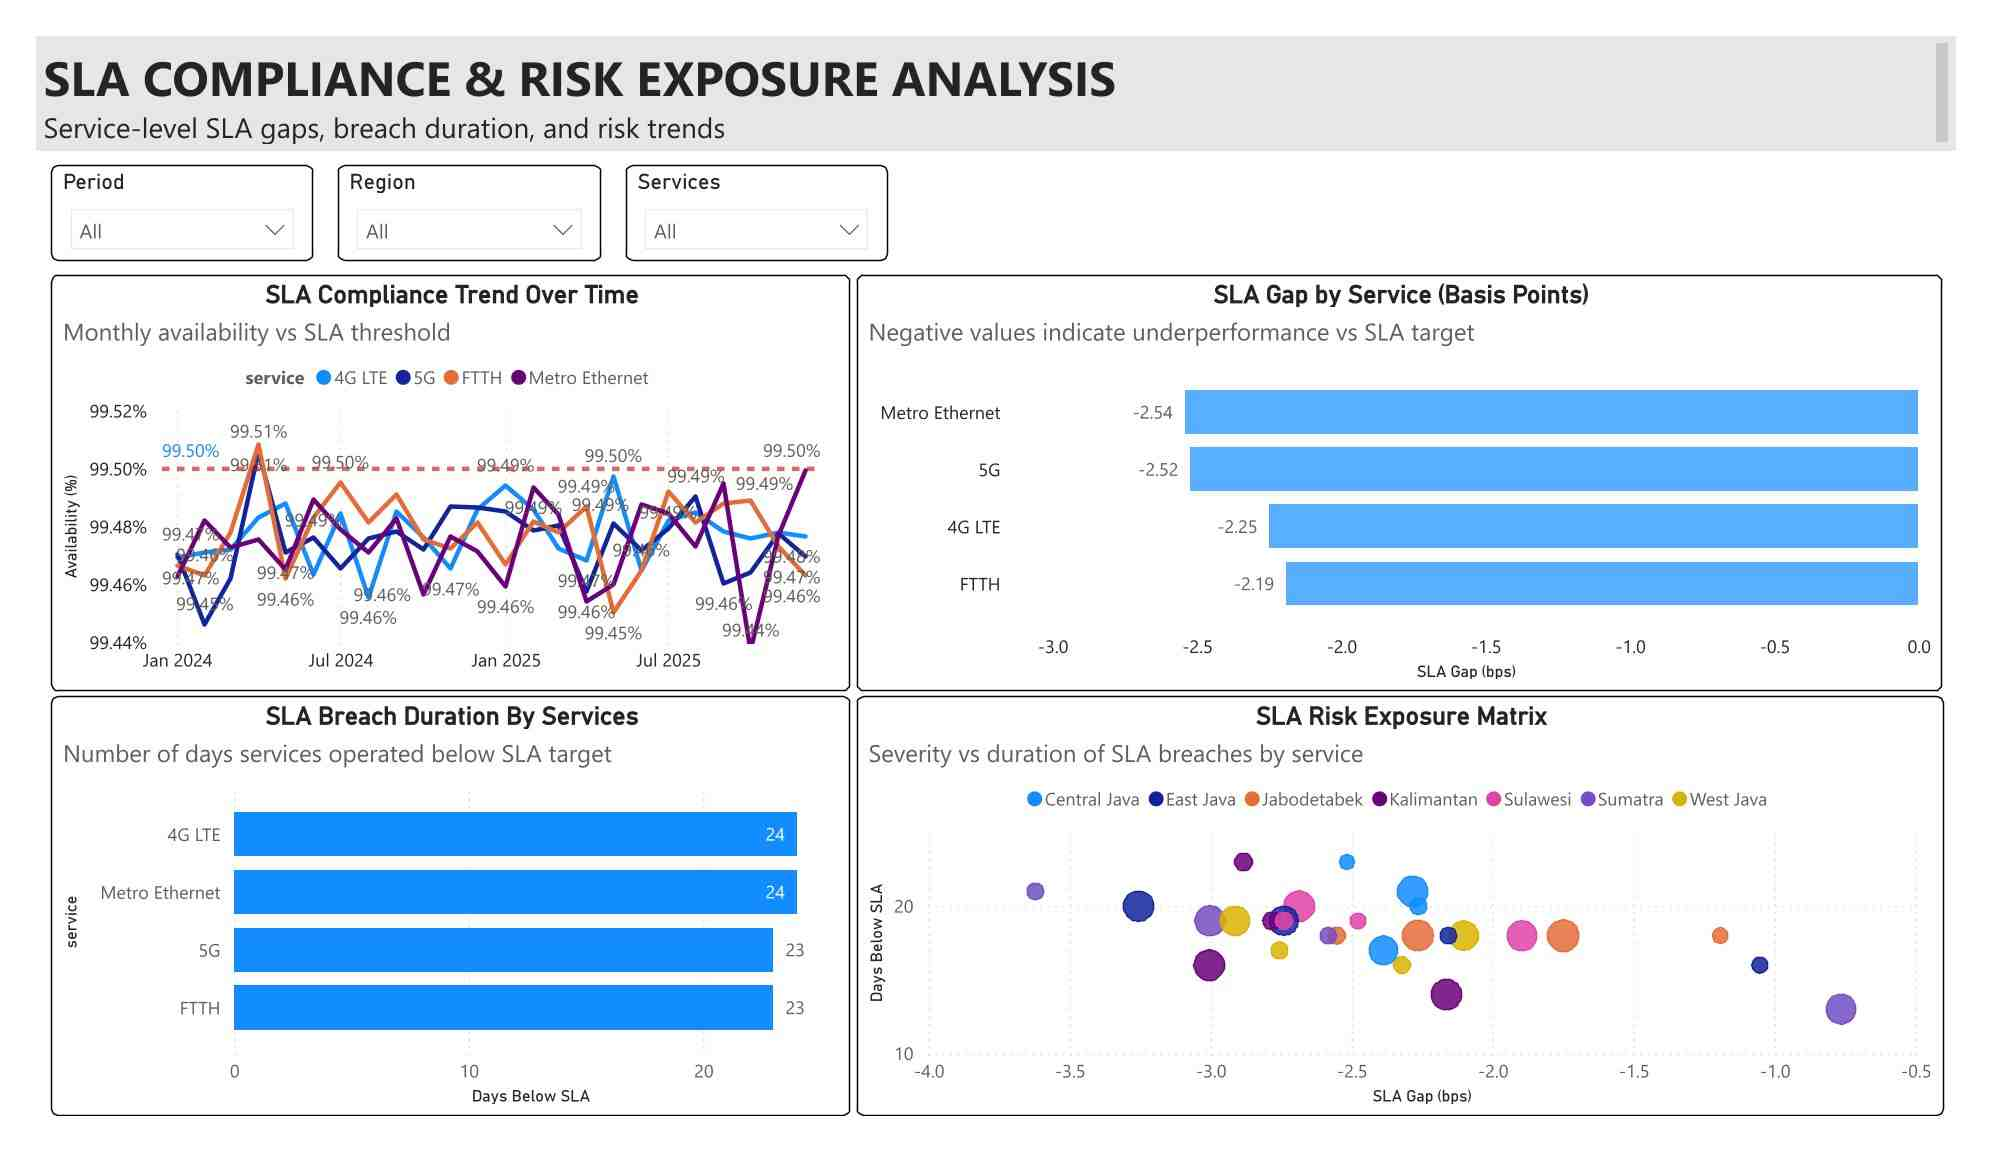

What the dashboard file says about the page in this screenshot:
{"tool":"powerbi","page":{"name":"SLA & RISK ANALYSIS","canvas":[1280,720],"ordinal":2},"visuals":[{"type":"textbox","box":[0,0,1280,77.1],"z":0},{"type":"lineChart","title":"SLA Compliance Trend Over Time","fields":{"Category":["dim_date.year_month"],"Y":["fact_network_kpi.Availability (%)"],"Series":["dim_service.service"]},"box":[10,158.6,532.9,278],"z":1000},{"type":"slicer","title":"Services","fields":{"Values":["dim_service.service"]},"box":[392.9,85.7,175,64.3],"z":2000},{"type":"clusteredBarChart","title":"SLA Breach Duration By Service","fields":{"Y":["fact_network_kpi.Days Below SLA"],"Category":["dim_service.service"]},"box":[10,440,533.3,280],"z":3000},{"type":"scatterChart","title":"SLA Risk Exposure Matrix","fields":{"Category":["dim_service.service"],"X":["fact_network_kpi.SLA Gap (bps)"],"Y":["fact_network_kpi.Days Below SLA"],"Size":["fact_incident.Incident Count"],"Series":["dim_region.region"]},"box":[546.8,440,725,280],"z":4000},{"type":"slicer","title":"Region","fields":{"Values":["dim_region.region"]},"box":[201.4,85.7,175.7,64.3],"z":5000},{"type":"slicer","title":"Period","fields":{"Values":["dim_date.year_month"]},"box":[10,85.7,175,64.3],"z":6000},{"type":"clusteredBarChart","title":"SLA Gap by Service (Basis Points)","fields":{"Category":["dim_service.service"],"Y":["fact_network_kpi.SLA Gap (bps)"]},"box":[547.1,158.6,724.3,278],"z":7000}]}

Visuals, with their boxes in screenshot pixels (x1, y1, x2, y2), scaled from the page's 1280x720 canvas onto the 1992x1152 screenshot:
textbox: locate(0, 0, 1991, 123)
"SLA Compliance Trend Over Time" lineChart: locate(16, 254, 845, 699)
"Services" slicer: locate(611, 137, 884, 240)
"SLA Breach Duration By Service" clusteredBarChart: locate(16, 704, 846, 1151)
"SLA Risk Exposure Matrix" scatterChart: locate(851, 704, 1979, 1151)
"Region" slicer: locate(313, 137, 587, 240)
"Period" slicer: locate(16, 137, 288, 240)
"SLA Gap by Service (Basis Points)" clusteredBarChart: locate(851, 254, 1979, 699)
